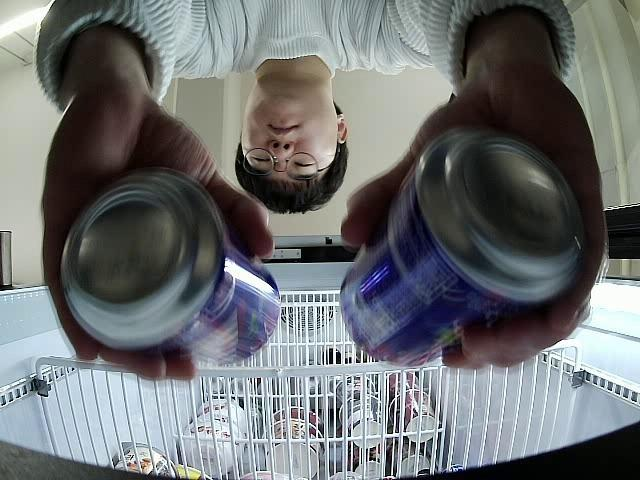14_welchsGrape: (338, 128, 582, 369), (57, 168, 276, 362)
